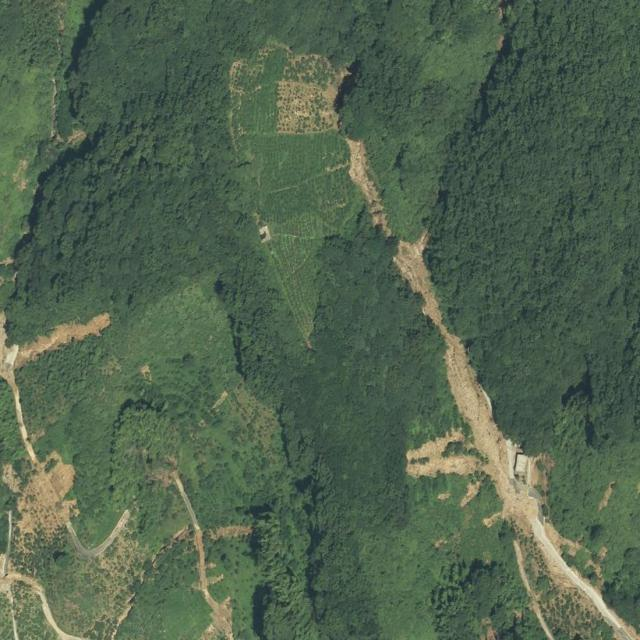landslide: (394, 231, 638, 638), (349, 139, 391, 236)
